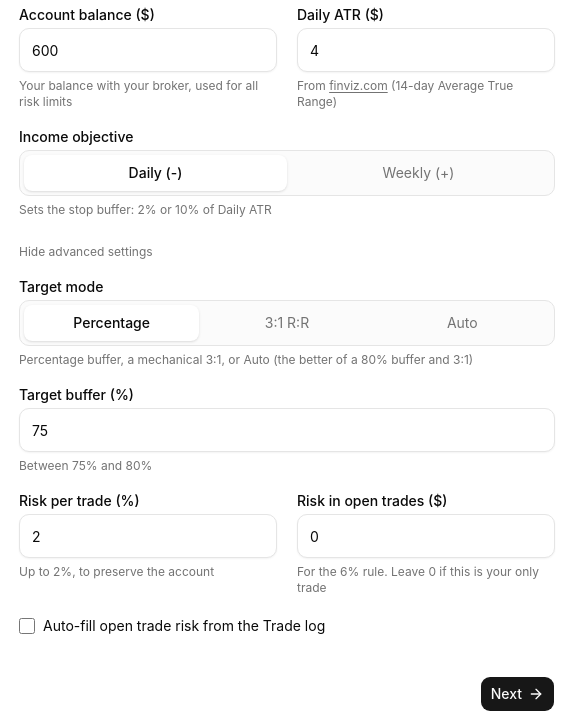
Test: given the advanced settings caps › given an open-trade risk without cents: should pad to two decimals on blur
(page scrolled)
Replace the text in the field labelled "Risk in open trades ($)" with "22": (426, 536) [297, 514, 555, 558]
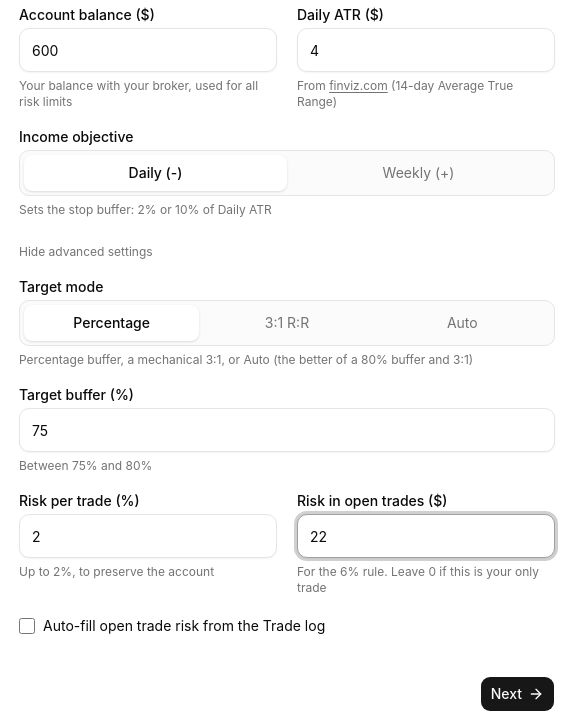
Press Tab
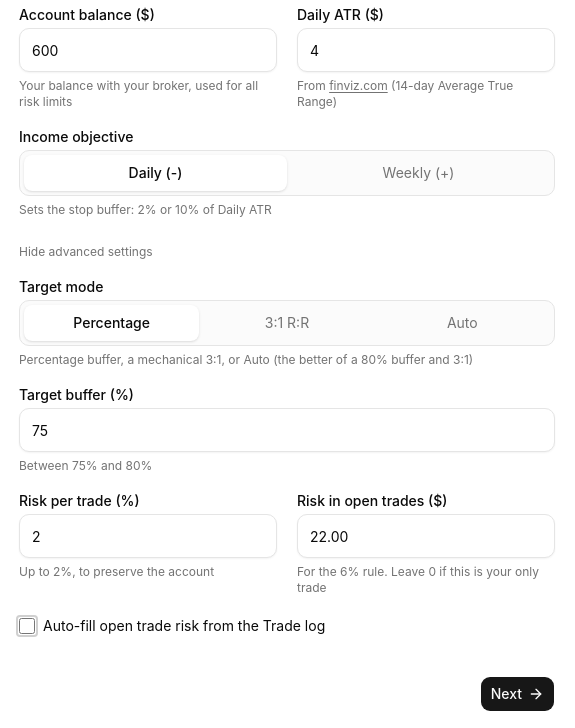
Check: the field labelled "Risk in open trades ($)" holds "22.00", box [297, 514, 555, 558]
